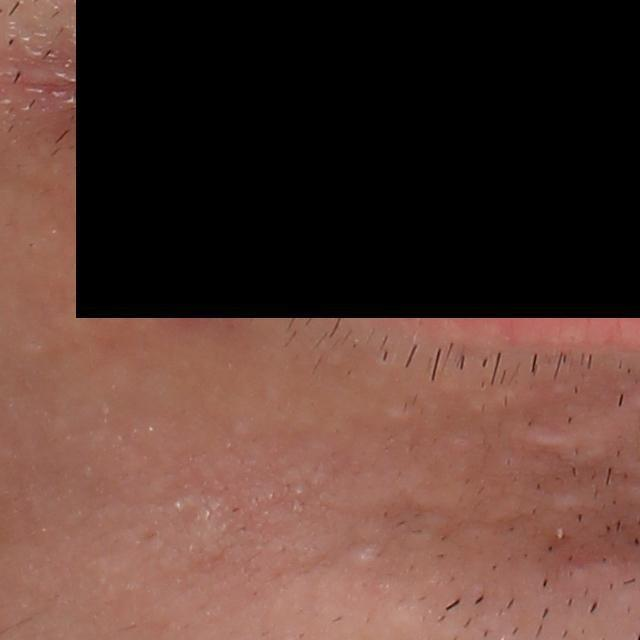hypertrophic_scar: (510, 423, 620, 470), (175, 495, 230, 563), (547, 491, 596, 516)
